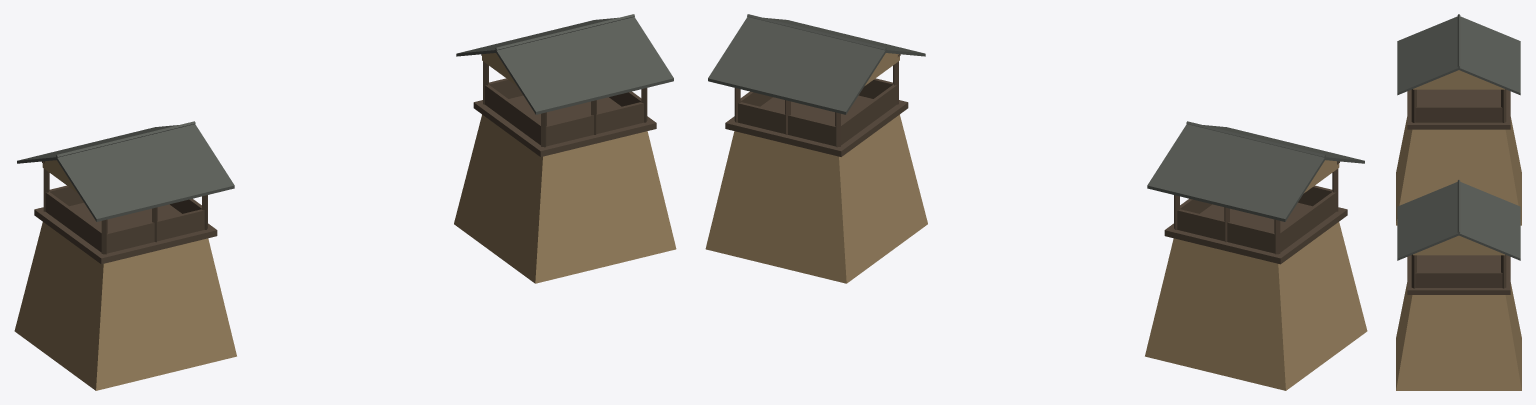
The model's file is palaceque-Q-LOD2.glb.
The picture shows the model from 3 angles, left to right: view 1: azimuth 30°, elevation 25°; view 2: azimuth 150°, elevation 25°; view 3: azimuth 270°, elevation 25°; orthographic projection. The views are drawn at different scales.
Visible parts, largest first — view 1: palaceque-Q-static_earth, palaceque-Q-static_tile, palaceque-Q-static_timber; view 2: palaceque-Q-static_earth, palaceque-Q-static_tile, palaceque-Q-static_timber; view 3: palaceque-Q-static_earth, palaceque-Q-static_tile, palaceque-Q-static_timber.
Boxes of the visible parts, x1,y1,x2,y2 form: palaceque-Q-static_earth: [14, 53, 676, 390]; palaceque-Q-static_tile: [17, 14, 673, 221]; palaceque-Q-static_timber: [34, 54, 656, 264]; palaceque-Q-static_earth: [705, 53, 1367, 390]; palaceque-Q-static_tile: [708, 14, 1364, 221]; palaceque-Q-static_timber: [725, 54, 1347, 264]; palaceque-Q-static_earth: [1396, 70, 1521, 390]; palaceque-Q-static_tile: [1397, 14, 1520, 260]; palaceque-Q-static_timber: [1407, 89, 1510, 294].
Bounding box in the file's own units: 37 × 12.54 × 9.
